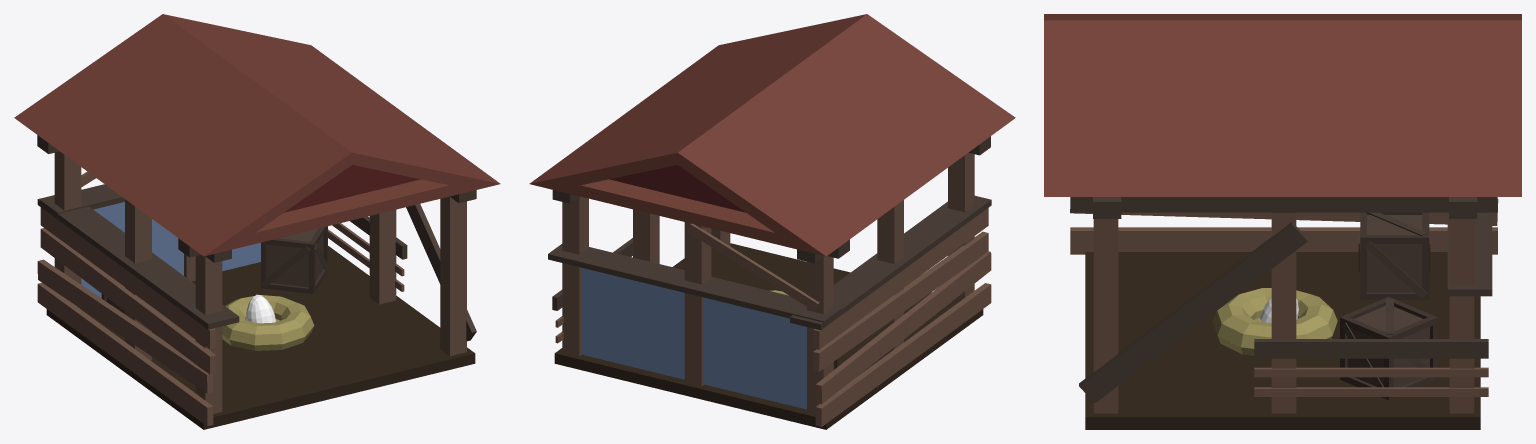
File: chicken raphouse.dae
The picture shows the model from 3 angles, left to right: view 1: azimuth 30°, elevation 25°; view 2: azimuth 150°, elevation 25°; view 3: azimuth 270°, elevation 25°; orthographic projection. The views are drawn at different scales.
Visible parts, largest first — view 1: Cube.042, Cube.005, Cube.025, Cube.024, Cube.022, Cube.023, Cube.011, Torus, Cube.021, Cube.036, Cube.006, Cube.009 (+7 smaller); view 2: Cube.042, Cube.026, Cube.005, Cube.020, Cube.025, Cube.024, Cube.023, Cube.022, Cube.021, Cube.010, Cube.019, Cube.008 (+4 smaller); view 3: Cube.042, Cube.005, Cube.014, Cube.024, Cube.013, Cube.030, Cube.015, Cube.036, Torus, Cube.011, Cube.010, Cube.009 (+7 smaller).
Boxes of the visible parts, x1,y1,x2,y2 form: Cube.042: [14, 14, 500, 256]; Cube.005: [46, 246, 475, 429]; Cube.025: [37, 195, 239, 329]; Cube.024: [37, 283, 213, 426]; Cube.022: [40, 228, 216, 374]; Cube.023: [37, 259, 213, 393]; Cube.011: [440, 196, 466, 356]; Torus: [222, 295, 314, 350]; Cube.021: [40, 207, 216, 349]; Cube.036: [261, 226, 327, 293]; Cube.006: [195, 255, 222, 413]; Cube.009: [369, 209, 396, 304]; Cube.042: [529, 14, 1015, 256]; Cube.026: [581, 268, 806, 409]; Cube.005: [554, 243, 983, 429]; Cube.020: [548, 244, 841, 326]; Cube.025: [790, 195, 991, 330]; Cube.024: [815, 283, 991, 426]; Cube.023: [815, 251, 991, 404]; Cube.022: [813, 231, 988, 371]; Cube.021: [813, 208, 988, 349]; Cube.010: [562, 196, 588, 356]; Cube.019: [684, 222, 711, 386]; Cube.008: [807, 256, 833, 414]; Cube.042: [1044, 14, 1521, 196]; Cube.005: [1085, 252, 1480, 429]; Cube.014: [1079, 222, 1307, 403]; Cube.024: [1070, 227, 1497, 254]; Cube.013: [1070, 197, 1497, 212]; Cube.030: [1360, 212, 1429, 299]; Cube.015: [1254, 339, 1488, 358]; Cube.036: [1340, 296, 1437, 400]; Torus: [1212, 288, 1337, 355]; Cube.011: [1093, 219, 1118, 413]; Cube.010: [1449, 219, 1474, 413]; Cube.009: [1271, 212, 1296, 413].
Bounding box in the file's own units: 2.2 × 2.42 × 1.81.
